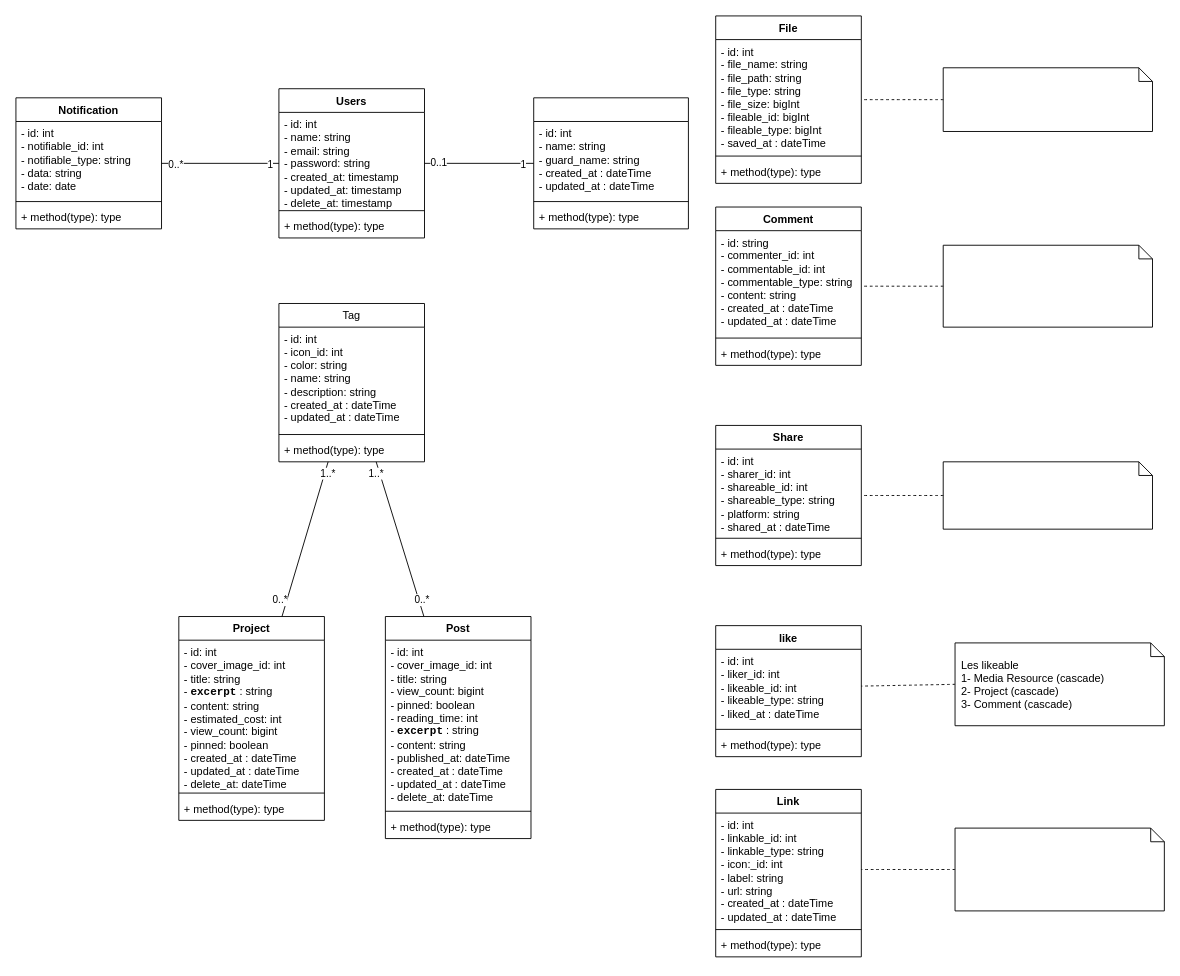
The diagram is 1180 pixels wide and 976 high, and some of its shapes have lost their labels. The shapes that lost their labels are listed below. From the top down, each one's centre as x and y in pixels, then its label:
point (1047, 99): Les fileable 1- Post (cascade) 2- Project (cascade) 3- User(cascade)
point (1047, 285): Les commentable 1- Post (cascade) 2- Project (cascade) 3- Comment (cascade)
point (1047, 495): Les shareable 1- Post (cascade) 2- Project (cascade)
point (1059, 869): Les linkeable 1- Post (cascade) 2- Project (cascade)
